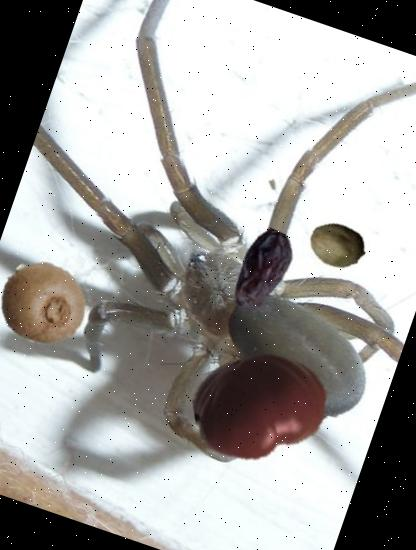Dates: (207, 216, 318, 326)
Kiwi: (0, 247, 98, 360)
Papaya: (302, 210, 372, 280)
Tomato: (176, 322, 346, 492)
